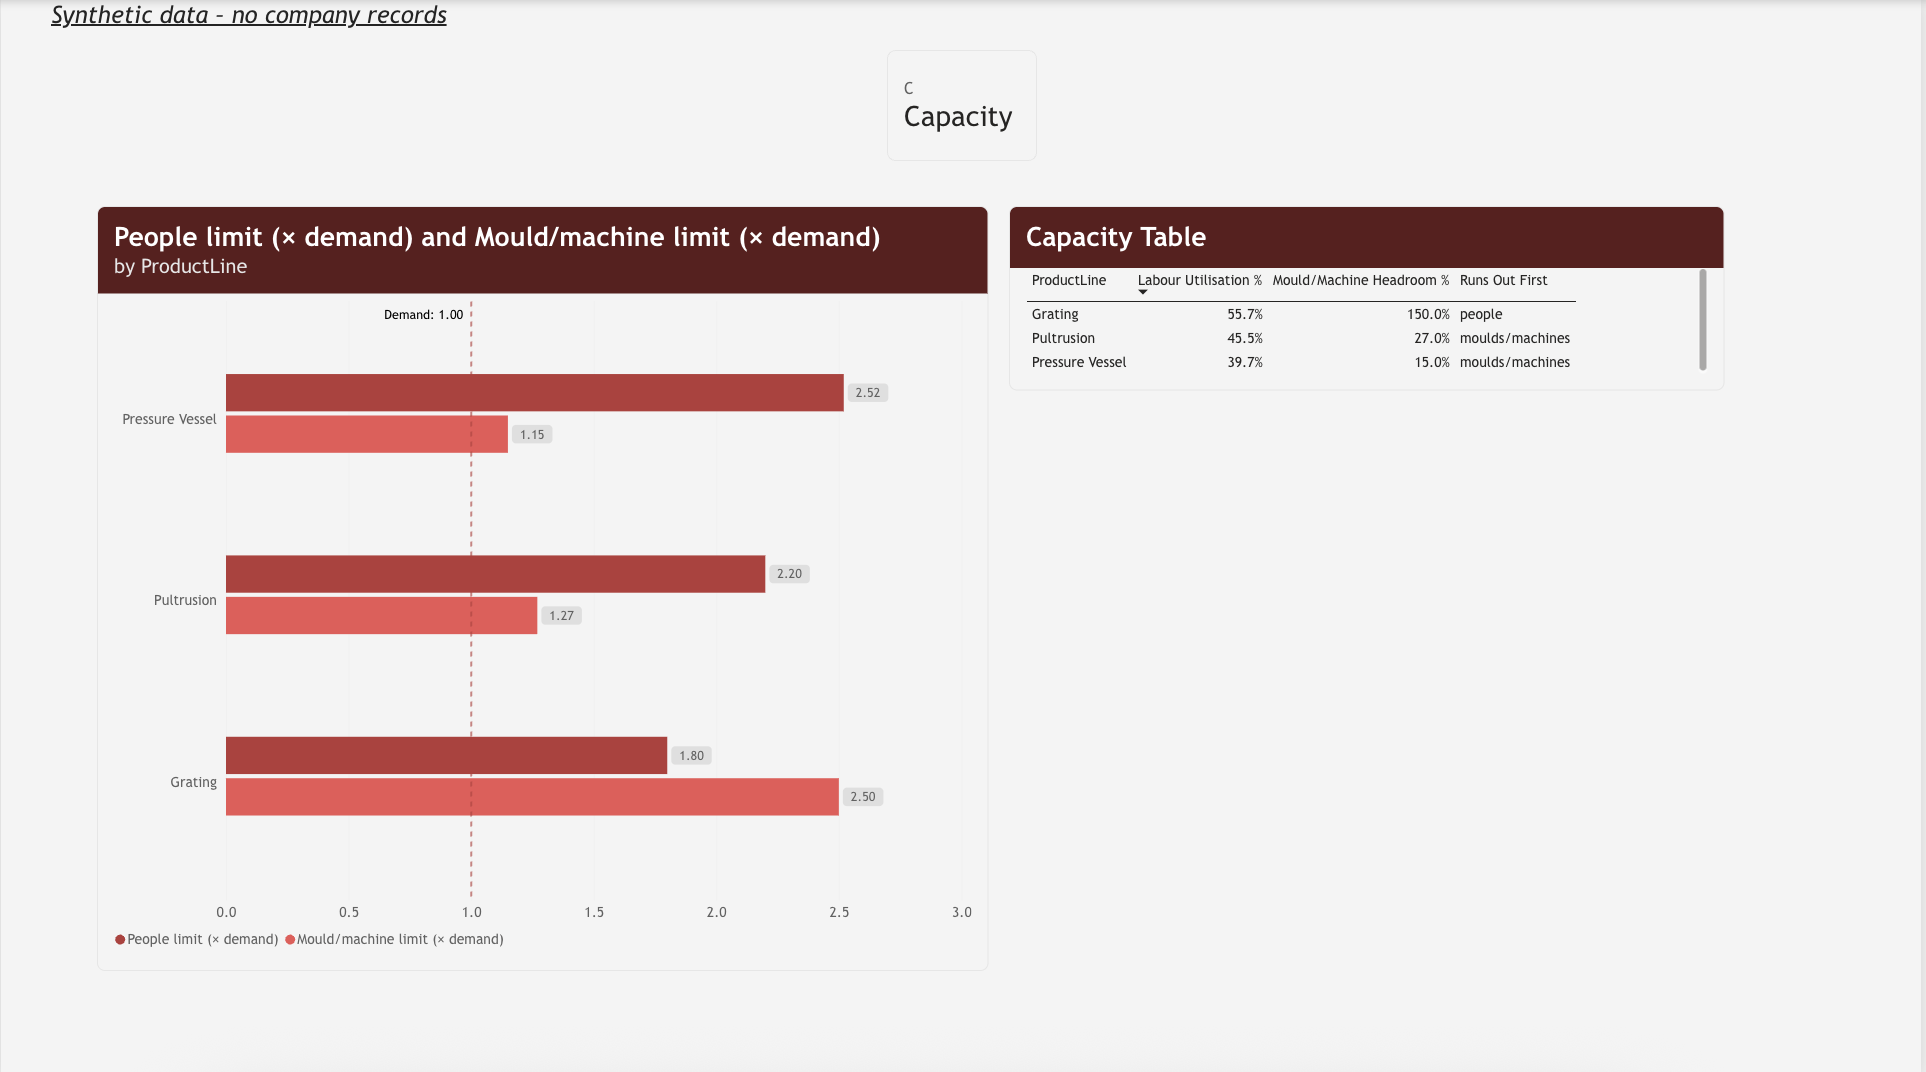

This screenshot's page, from the dashboard's own definition file:
{"tool":"powerbi","page":{"name":"Capacity","canvas":[1920,1080],"ordinal":1},"visuals":[{"type":"textbox","box":[9.5,0,837.8,40],"z":0},{"type":"clusteredBarChart","fields":{"Category":["tblProductLines.ProductLine"],"Y":["Sum(tblCapacity.PeopleLimit_xDemand)","Sum(tblCapacity.MouldMachineLimit_xDemand)"]},"box":[96.4,205.7,891.4,765],"z":1000},{"type":"tableEx","title":"Capacity Table","fields":{"Values":["tblProductLines.ProductLine","tblCapacity.Labour Utilisation %","tblCapacity.Mould/Machine Headroom %","tblCapacity.Runs Out First"]},"box":[1007.1,205.7,715.7,184.3],"z":2000},{"type":"cardVisual","fields":{"Data":["tblCalendar.C"]},"box":[885,49.3,150,111.4],"z":3000}]}

Visuals, with their boxes in screenshot pixels (x1, y1, x2, y2), scaled from the page's 1920x1080 canvas onto the 1926x1072 screenshot:
textbox: [10,0,850,40]
clusteredBarChart - tblProductLines.ProductLine x Sum(tblCapacity.PeopleLimit_xDemand): [97,204,991,964]
"Capacity Table" tableEx: [1010,204,1728,387]
cardVisual - tblCalendar.C: [888,49,1038,160]
